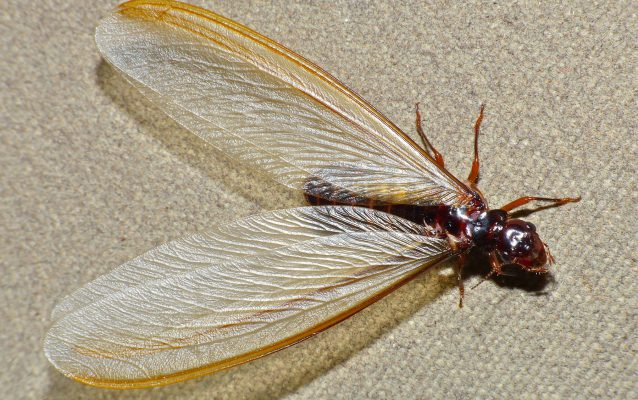flying termite: (22, 1, 595, 394)
